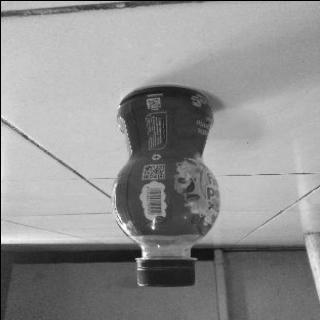plastic_bottles: (110, 83, 222, 290)
